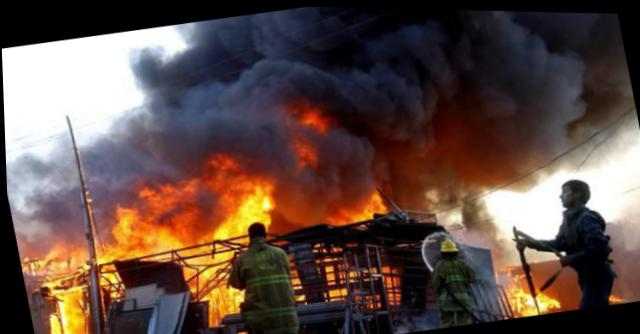fire: (285, 231, 403, 318), (173, 236, 242, 323), (114, 182, 194, 254), (205, 177, 278, 238), (41, 251, 95, 333), (22, 262, 59, 334), (77, 241, 132, 286), (504, 268, 557, 313), (327, 194, 383, 224)
smoke: (345, 6, 639, 209), (121, 2, 368, 127), (89, 113, 241, 174), (20, 160, 183, 205), (3, 120, 98, 184), (18, 193, 114, 232), (239, 102, 291, 171), (456, 189, 507, 258), (337, 93, 378, 176), (289, 165, 348, 209), (615, 199, 639, 299)
